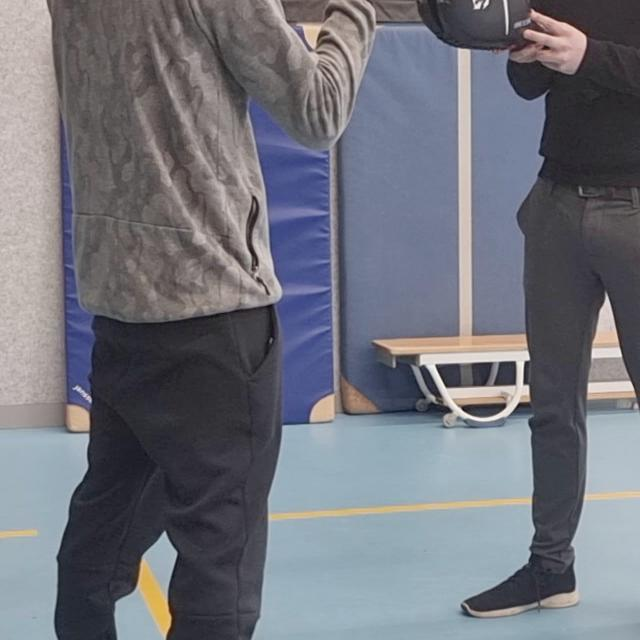paddle: (411, 0, 541, 51)
